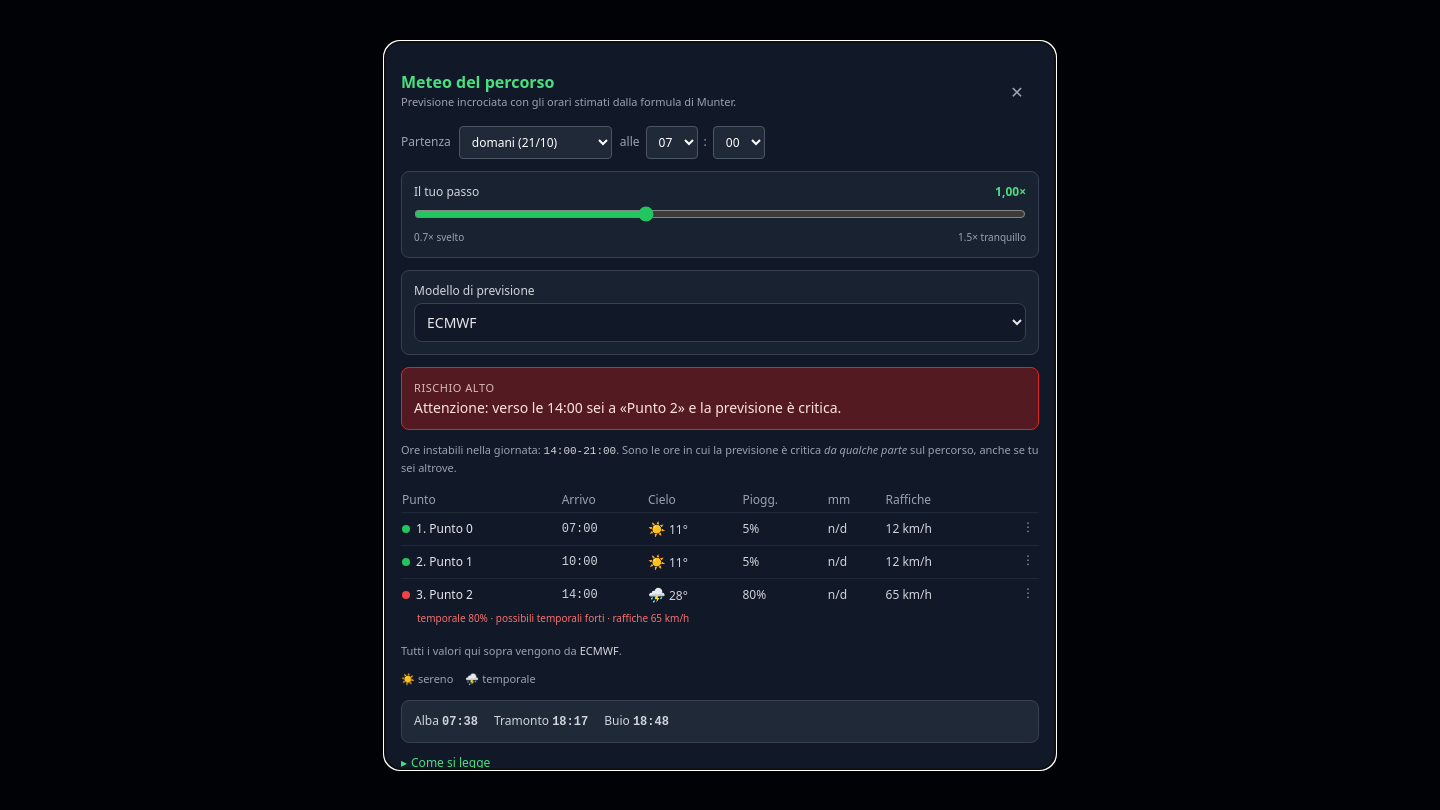
Test: Meteo del percorso › cambiare ora di partenza ricalcola
Select "05" in the dropdown named "ora di partenza". click: (672, 142)
box: [646, 126, 698, 158]
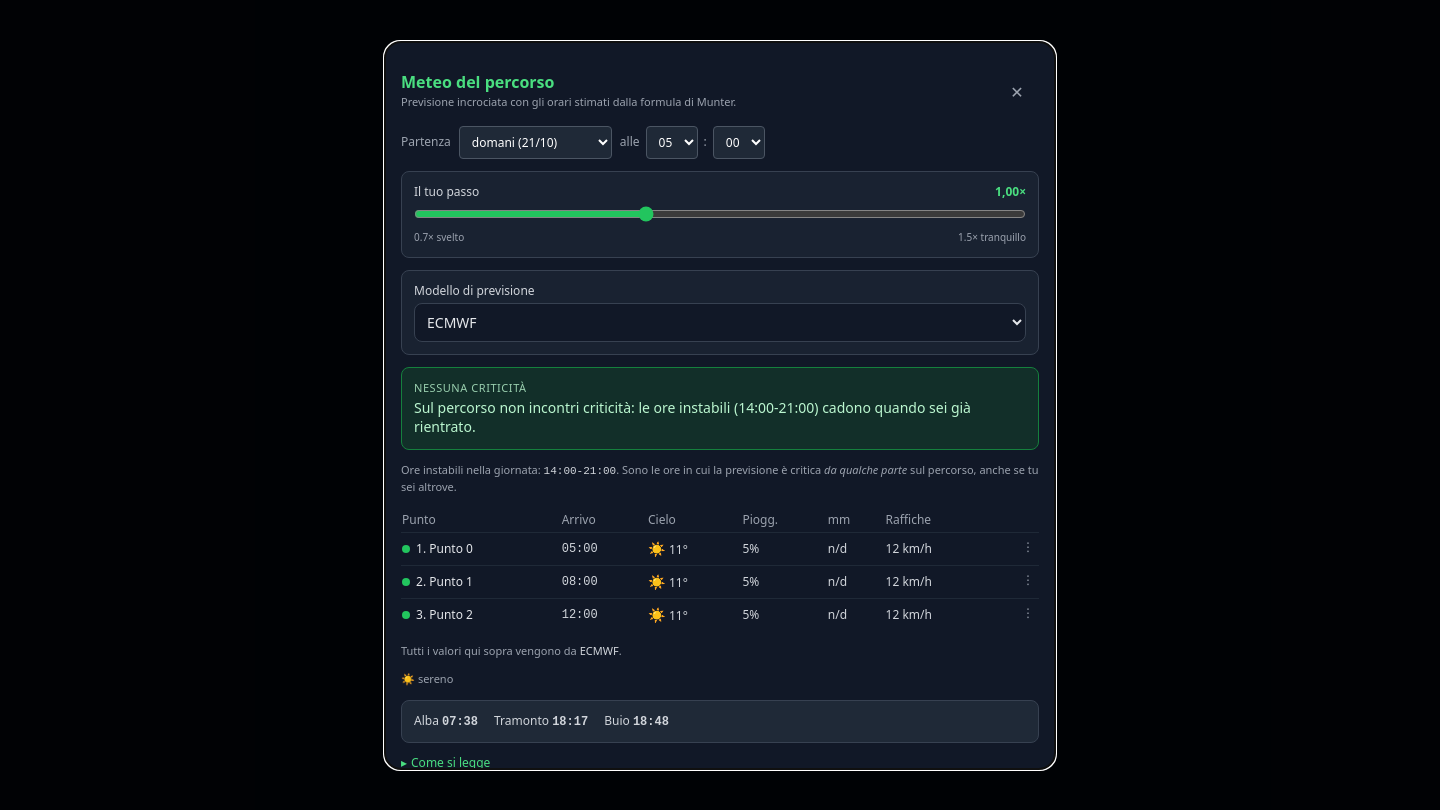
Expected: the cell "05:00" is shown, [561, 532, 647, 565]
